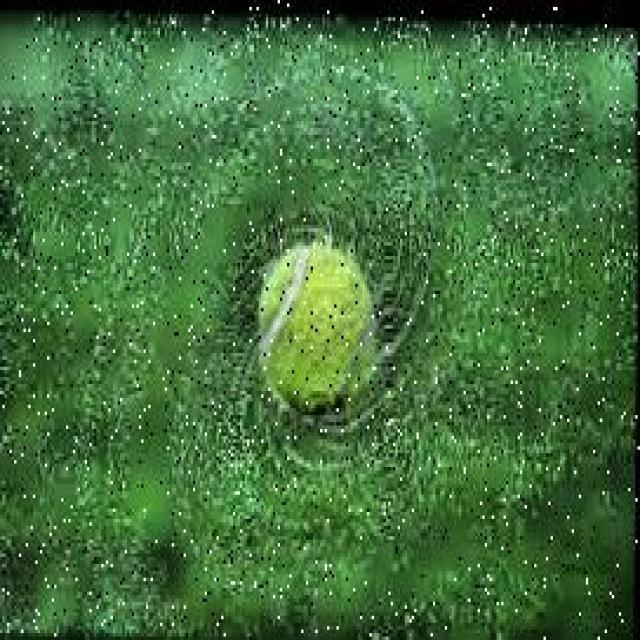tennis-ball: (258, 232, 397, 429)
